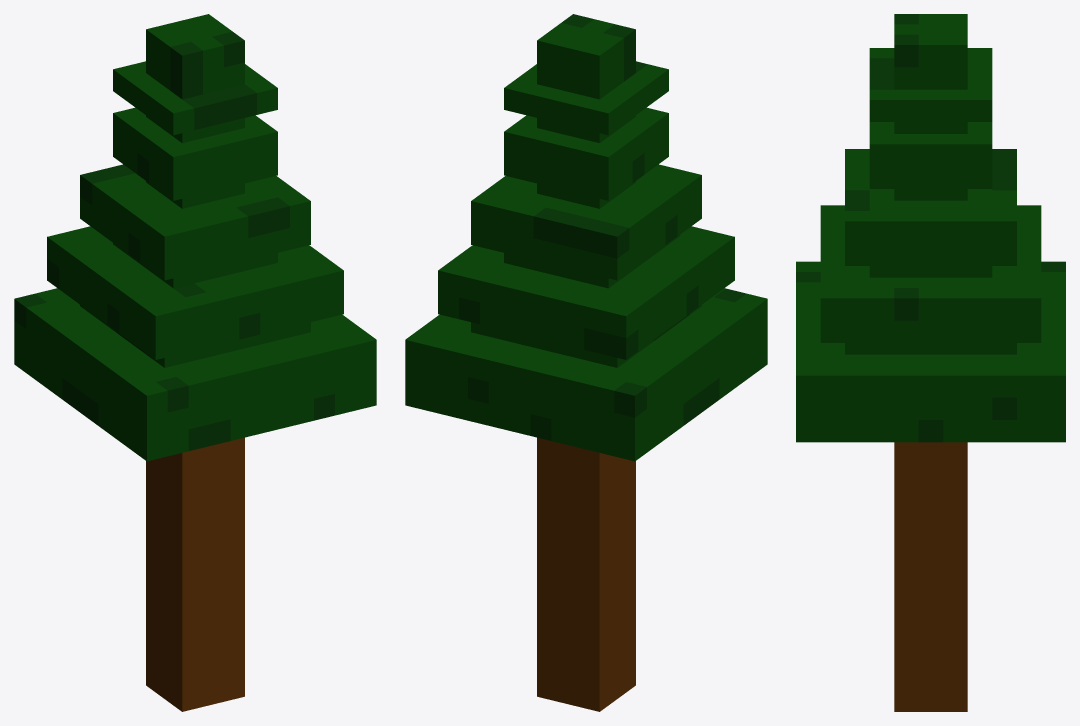
The model's file is Spruce_diff.obj.
3 renders of one model, left to right at view 1: azimuth 30°, elevation 25°; view 2: azimuth 150°, elevation 25°; view 3: azimuth 270°, elevation 25°, orthographic.
Parts seen in each view (by area): view 1: Spruce_diff; view 2: Spruce_diff; view 3: Spruce_diff.
Part boxes in pixels (x1,y1,x2,y2): Spruce_diff: (14, 14, 376, 711); Spruce_diff: (405, 14, 767, 711); Spruce_diff: (796, 14, 1065, 711).
Size of the model in its own units: 11 by 30 by 11.
1 material, 1 textured.
